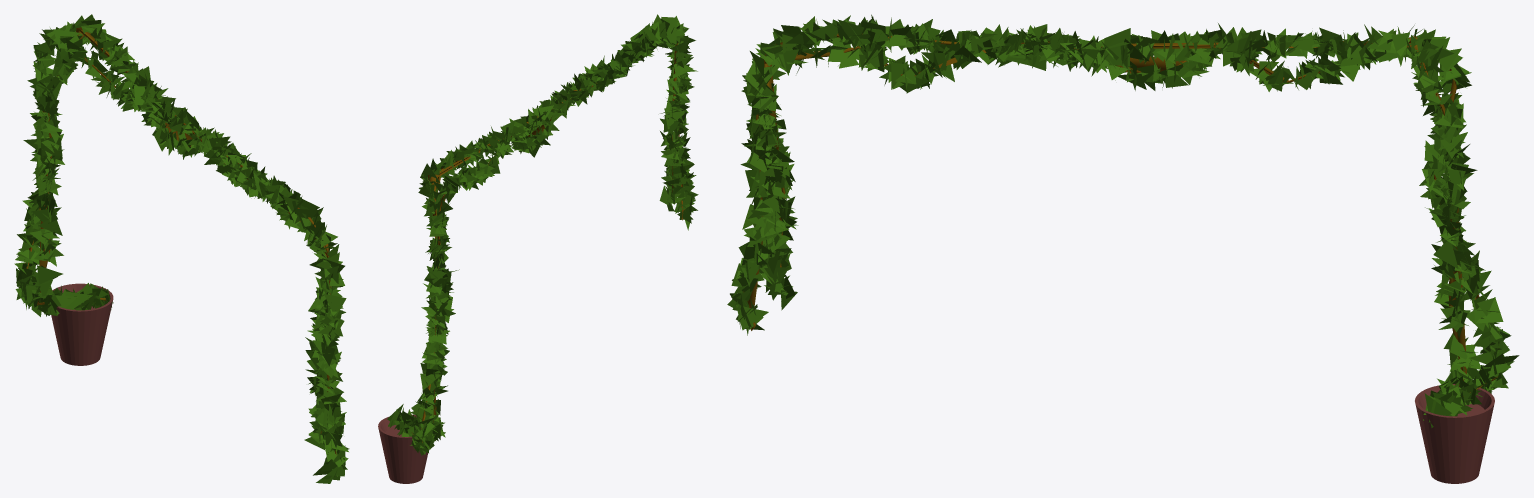
The model's file is vine.glb.
3 views of the same model, side by side, from view 1: azimuth 30°, elevation 25°; view 2: azimuth 150°, elevation 25°; view 3: azimuth 270°, elevation 25° (orthographic). The views are drawn at different scales.
Visible parts, largest first — view 1: BézierCurve, Cylinder; view 2: BézierCurve, Cylinder; view 3: BézierCurve, Cylinder.
Boxes of the visible parts, box(x1,y1,x2,y2) form: BézierCurve: box(14, 14, 349, 483); Cylinder: box(51, 283, 113, 365); BézierCurve: box(387, 14, 698, 455); Cylinder: box(378, 414, 428, 483); BézierCurve: box(727, 14, 1519, 427); Cylinder: box(1415, 384, 1494, 483).
Size of the model in its own units: 0.7612 by 3.2 by 5.22.
